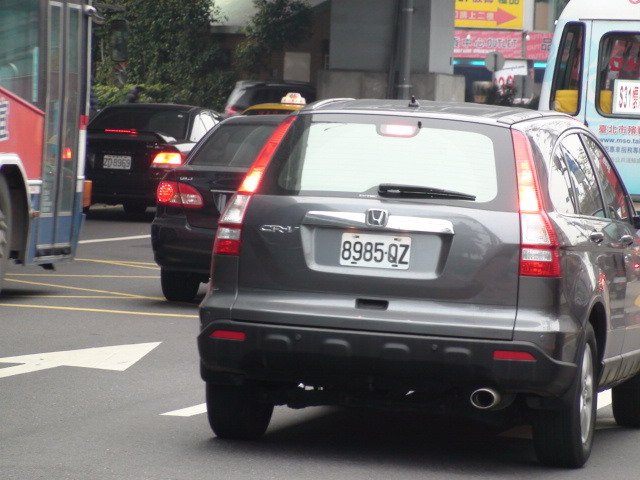plate: (339, 230, 414, 271), (102, 152, 133, 172)
